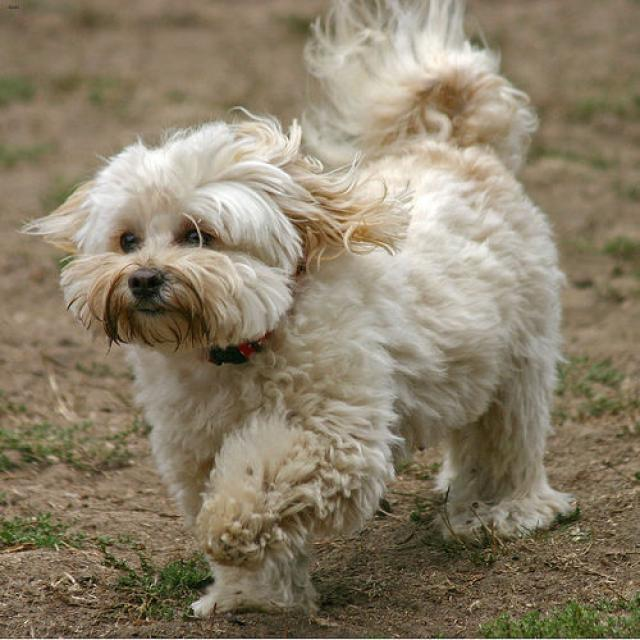dog-havanese: (10, 1, 593, 637)
